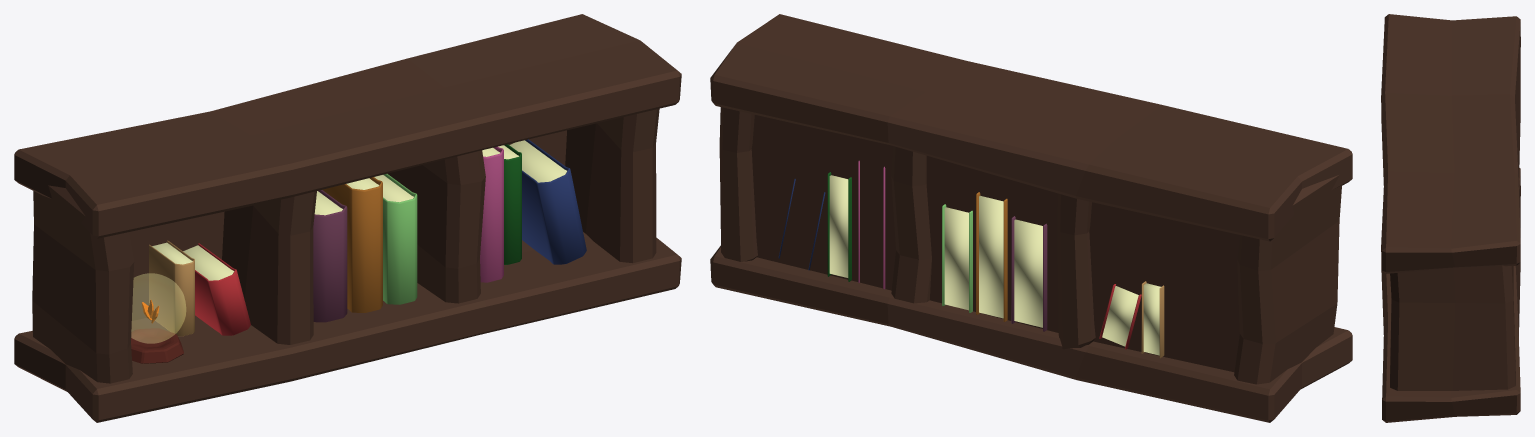
The model's file is bookshelf wall 1.fbx.
The picture shows the model from 3 angles, left to right: view 1: azimuth 30°, elevation 25°; view 2: azimuth 150°, elevation 25°; view 3: azimuth 270°, elevation 25°; orthographic projection. The views are drawn at different scales.
Parts seen in each view (by area): view 1: b2; view 2: b2; view 3: b2.
Part boxes in pixels (box(x1,y1,x2,y2)): b2: box(14, 14, 681, 422); b2: box(710, 14, 1352, 422); b2: box(1381, 14, 1520, 422).
Size of the model in its own units: 284 by 104 by 72.19.
